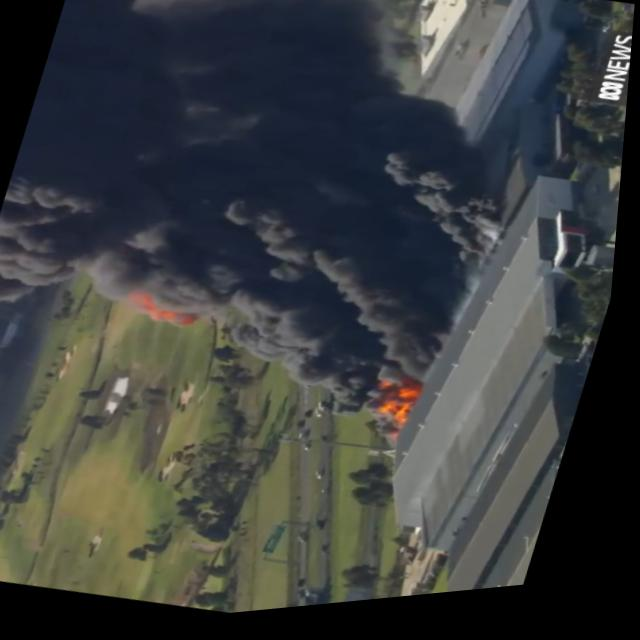Fire: (369, 379, 429, 437)
